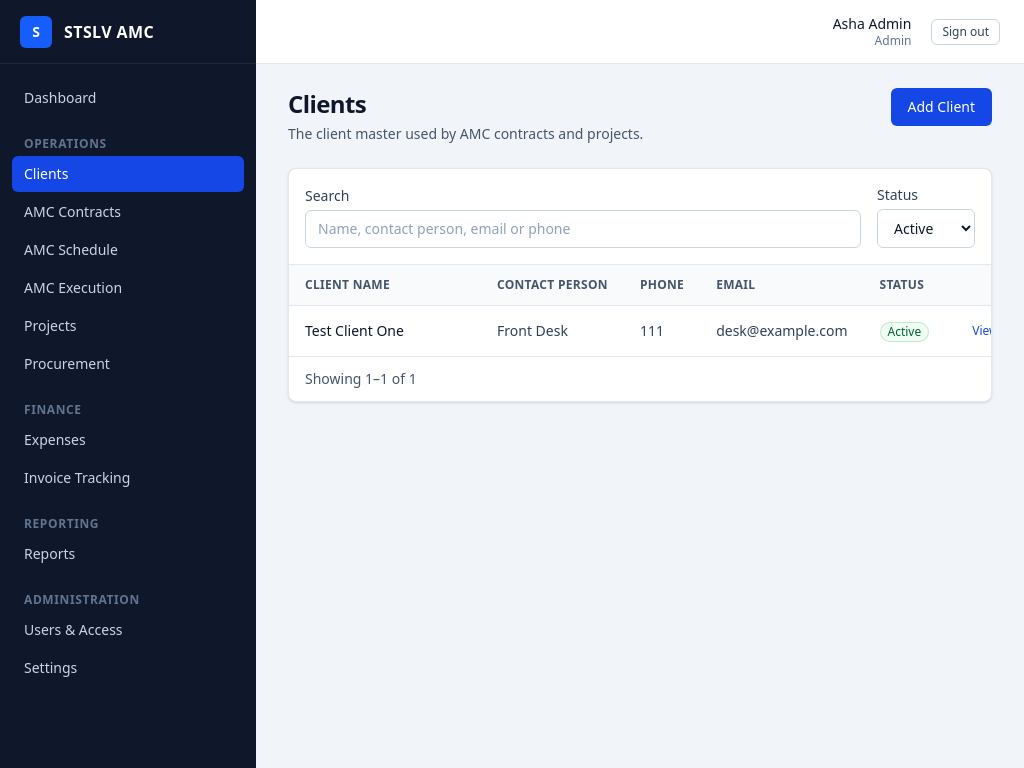
client list › shows the stored details of a client
Click the button with aria-label "View Test Client One" at (985, 331), box [961,318,1010,344]
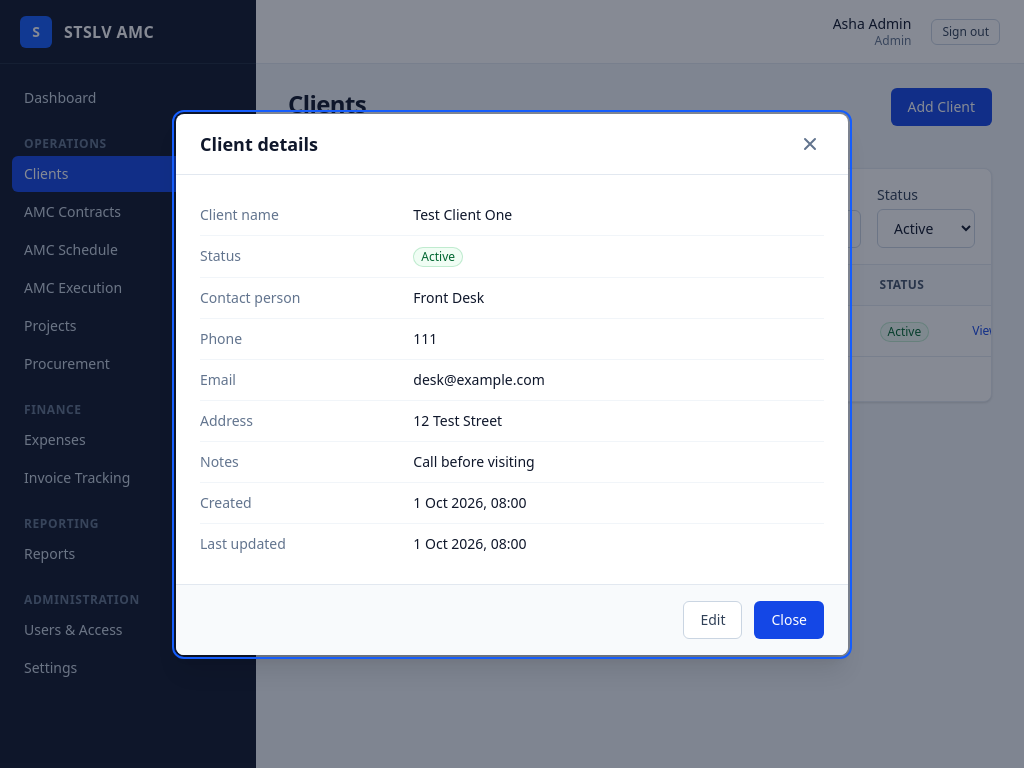
Result: the text "12 Test Street" is shown at [413,410,502,430]
Result: the text "Call before visiting" is shown at [413,452,535,470]
Result: the text "desk@example.com" is shown at [413,370,545,388]
